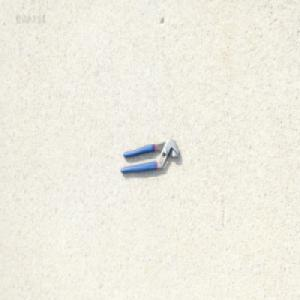Pliers: (118, 135, 179, 173)
